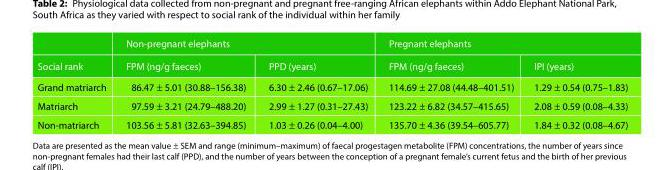table: (36, 36, 627, 130)
table column: (377, 36, 523, 130), (115, 36, 256, 130), (256, 36, 377, 130), (523, 36, 627, 130), (36, 36, 115, 130)
table column header: (36, 36, 627, 75)
table row: (36, 54, 627, 75), (36, 75, 627, 95), (36, 95, 627, 114), (36, 36, 627, 54), (36, 114, 627, 130)
table spanning cell: (115, 36, 377, 54), (377, 36, 627, 54), (36, 36, 115, 75)
